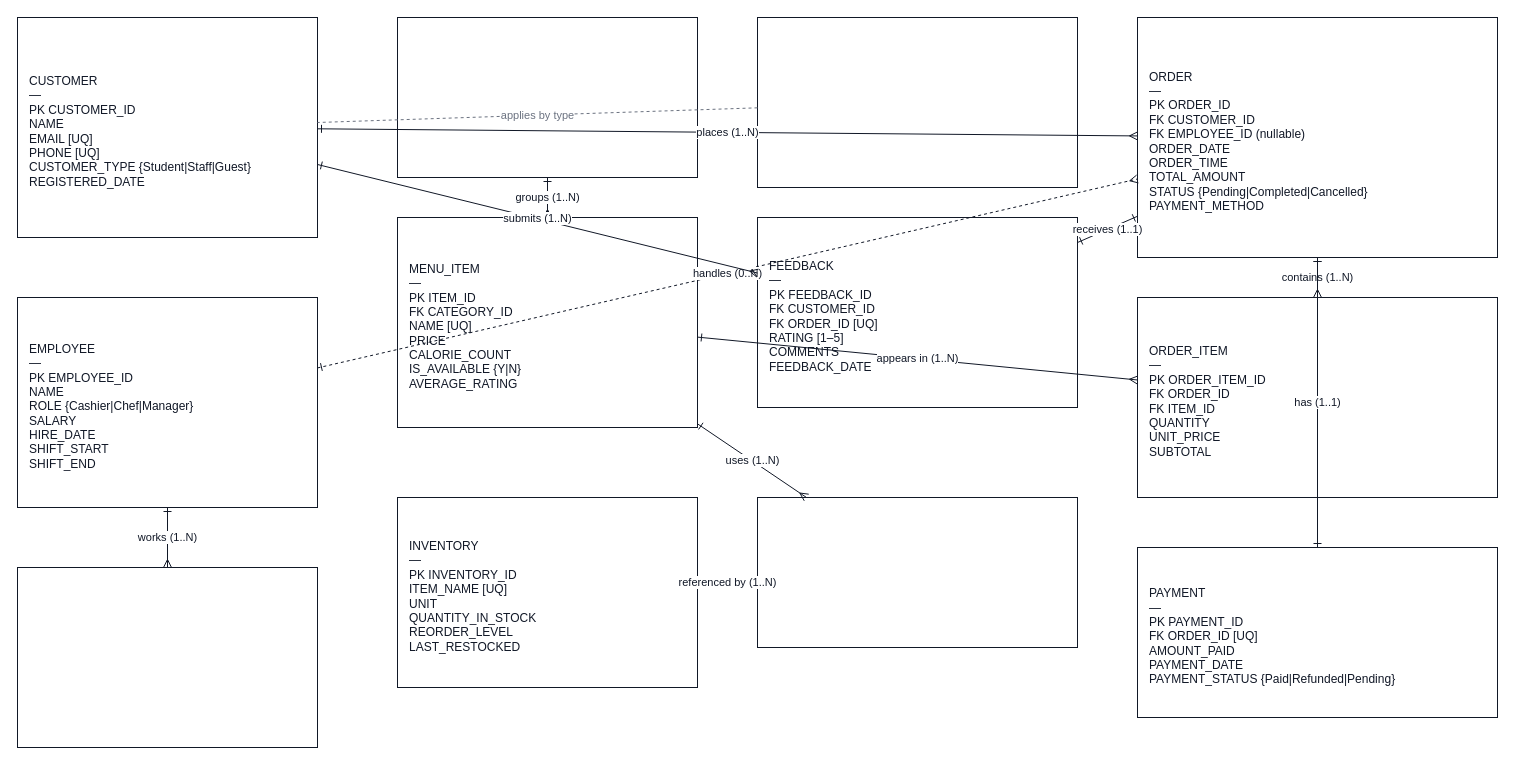
Image size: 1515x765. Some labels were removed from this diagram. Here are the shapes that lost their labels. From the top down, the box of each, then its label:
(396, 16, 698, 178): MENU_CATEGORY — PK CATEGORY_ID CATEGORY_NAME [UQ] DESCRIPTION
(756, 16, 1078, 188): DISCOUNT — PK DISCOUNT_ID CUSTOMER_TYPE DISCOUNT_PERCENT VALID_FROM VALID_TO
(756, 496, 1078, 648): INGREDIENT_USAGE — PK USAGE_ID FK ITEM_ID FK INVENTORY_ID QUANTITY_REQUIRED
(16, 566, 318, 748): SHIFT — PK SHIFT_ID FK EMPLOYEE_ID SHIFT_DATE START_TIME END_TIME HOURS_WORKED
